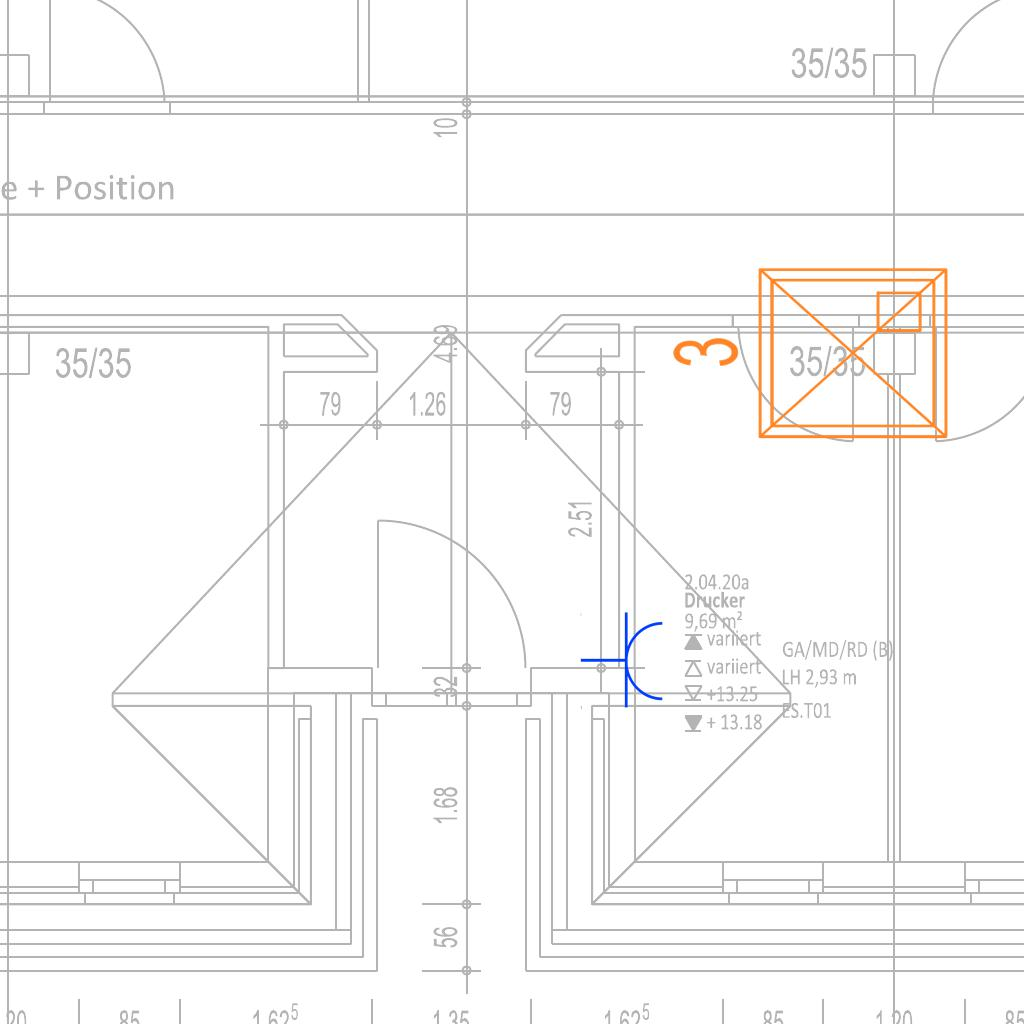Einbaudownlights_LED_Konferenzraeume: (662, 253, 962, 461)
Schukosteckdose_einfach: (580, 611, 667, 711)
